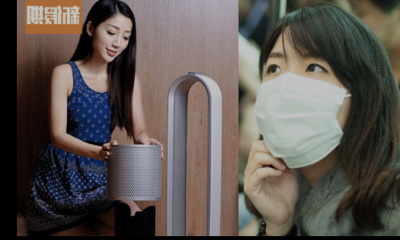with_mask: (252, 49, 349, 170)
without_mask: (90, 21, 133, 65)
